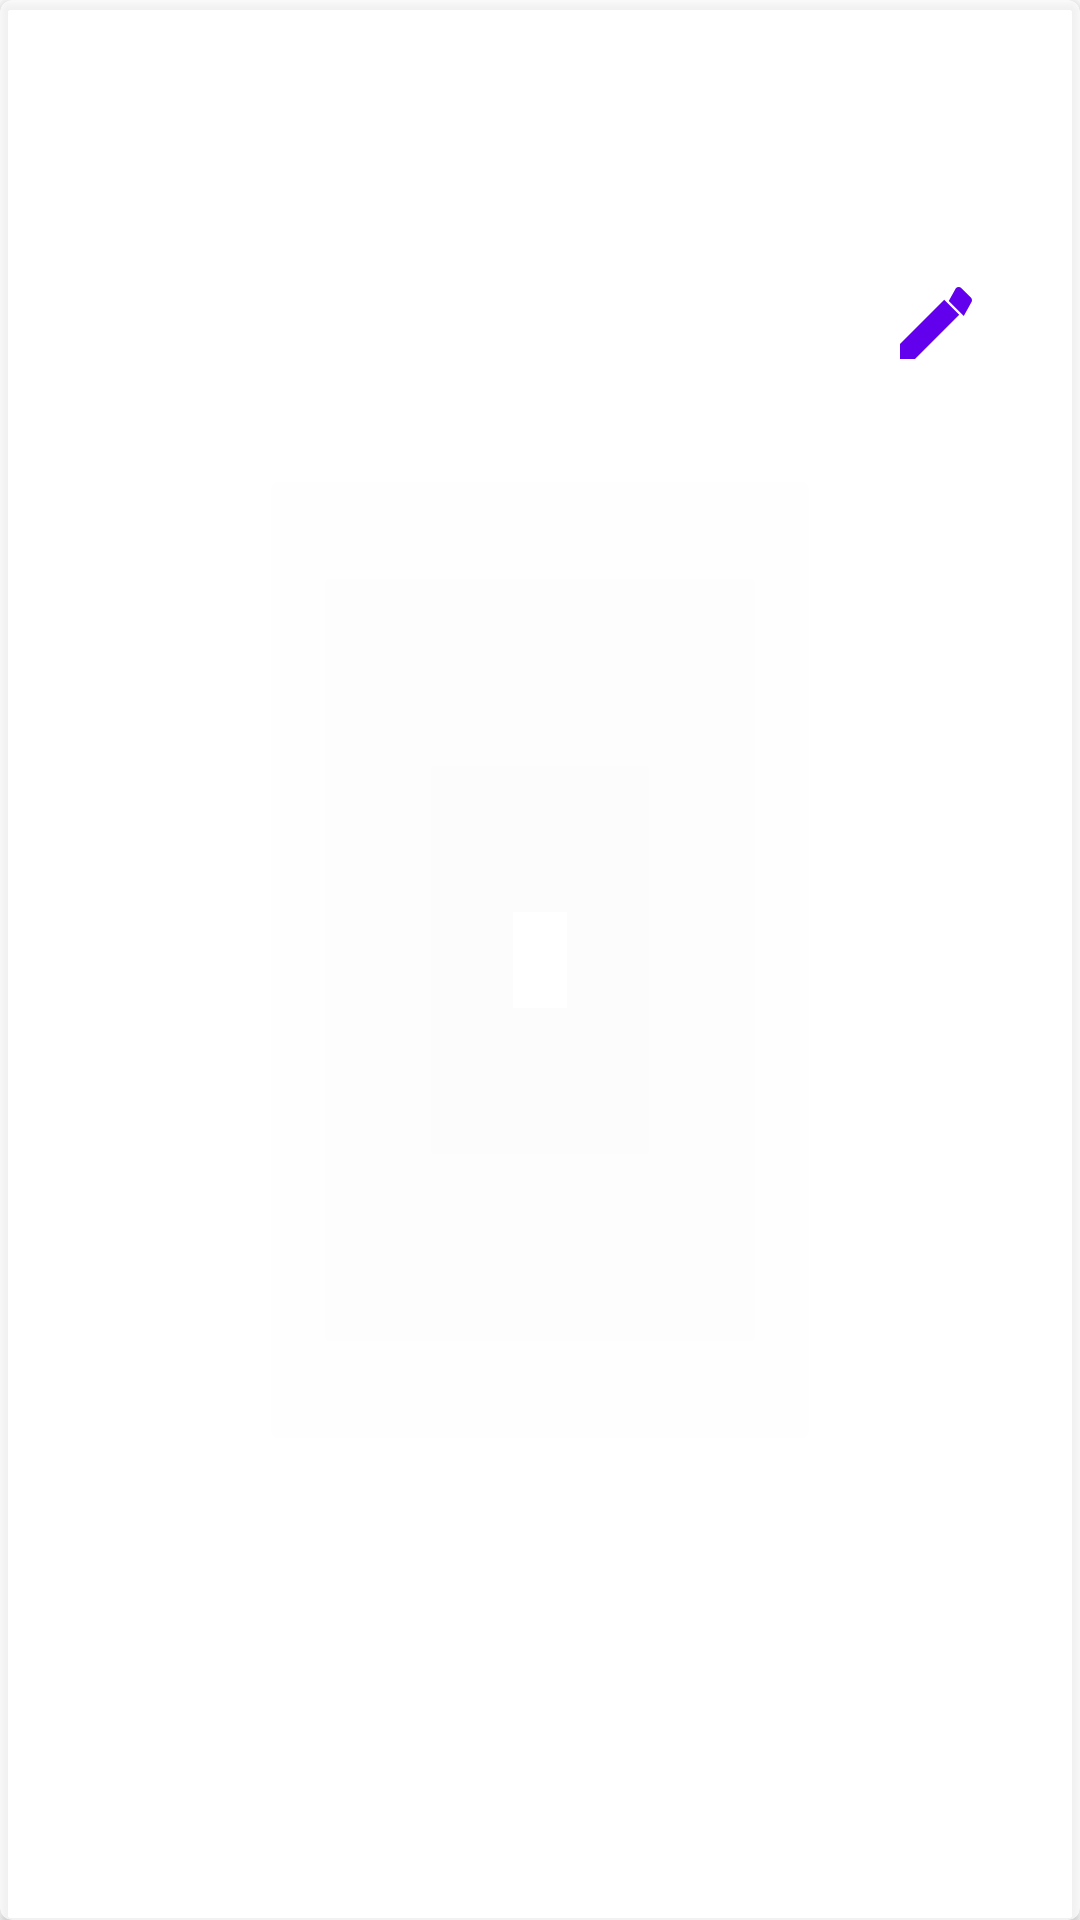

Point at icon controls on the screen. Image size 1080px x 1920px, points as (x=x, y=y).
edit: (x=936, y=323)
